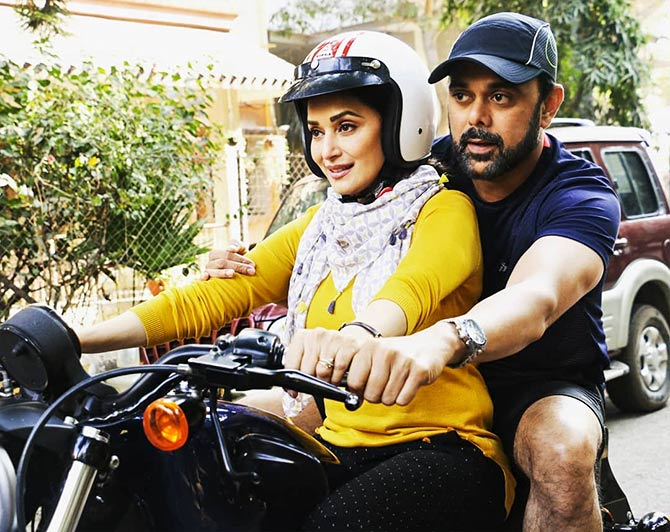helmet: (268, 26, 443, 195)
